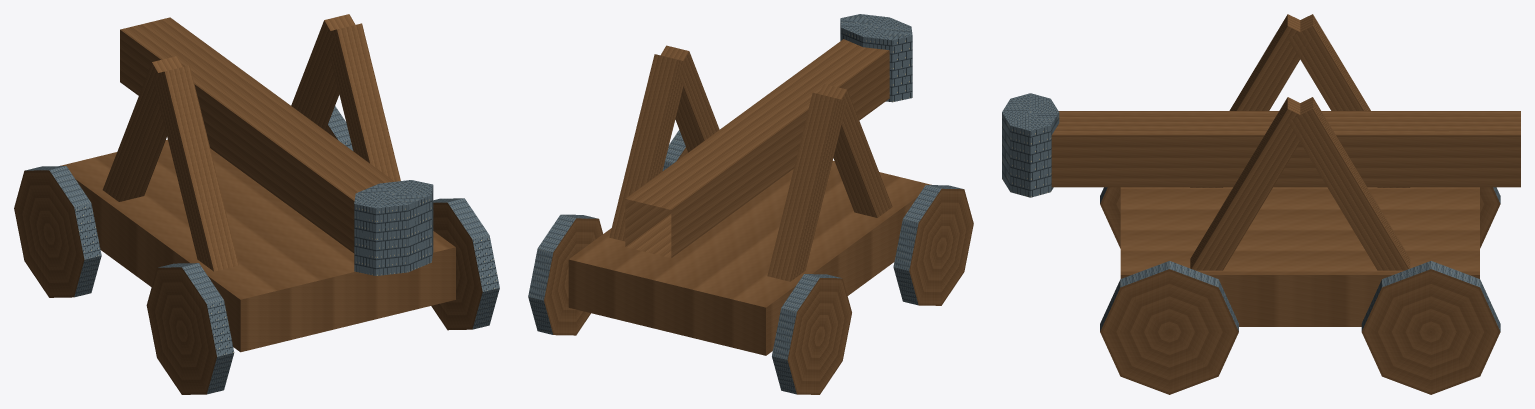
The model's file is unit-RAM-lod1.glb.
3 views of the same model, side by side, from view 1: azimuth 30°, elevation 25°; view 2: azimuth 150°, elevation 25°; view 3: azimuth 270°, elevation 25° (orthographic). The views are drawn at different scales.
Bounding box in the file's own units: 0.394 × 0.3584 × 0.635.
1 material, 1 textured.
